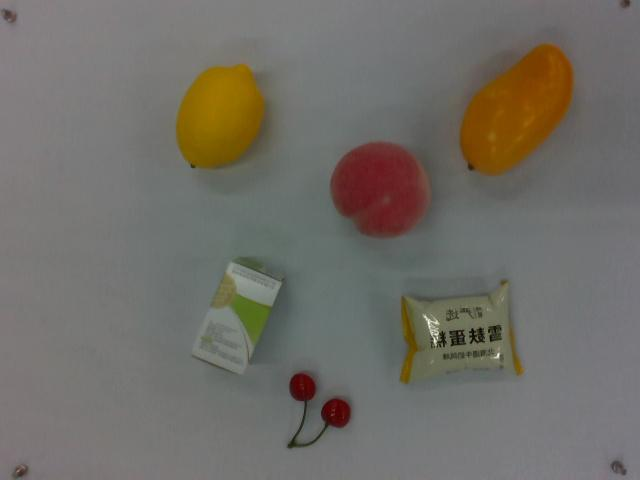carton: (190, 255, 289, 377)
cherry: (284, 369, 354, 456)
dessert: (397, 281, 517, 386)
lemon: (177, 60, 269, 173)
mango: (458, 43, 574, 181)
peach: (326, 135, 430, 245)
